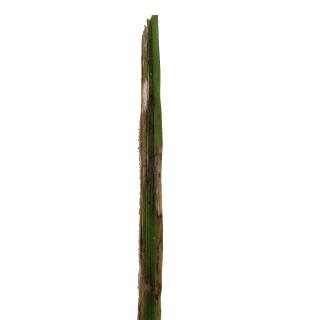Hawar-Daun: (141, 28, 162, 314)
